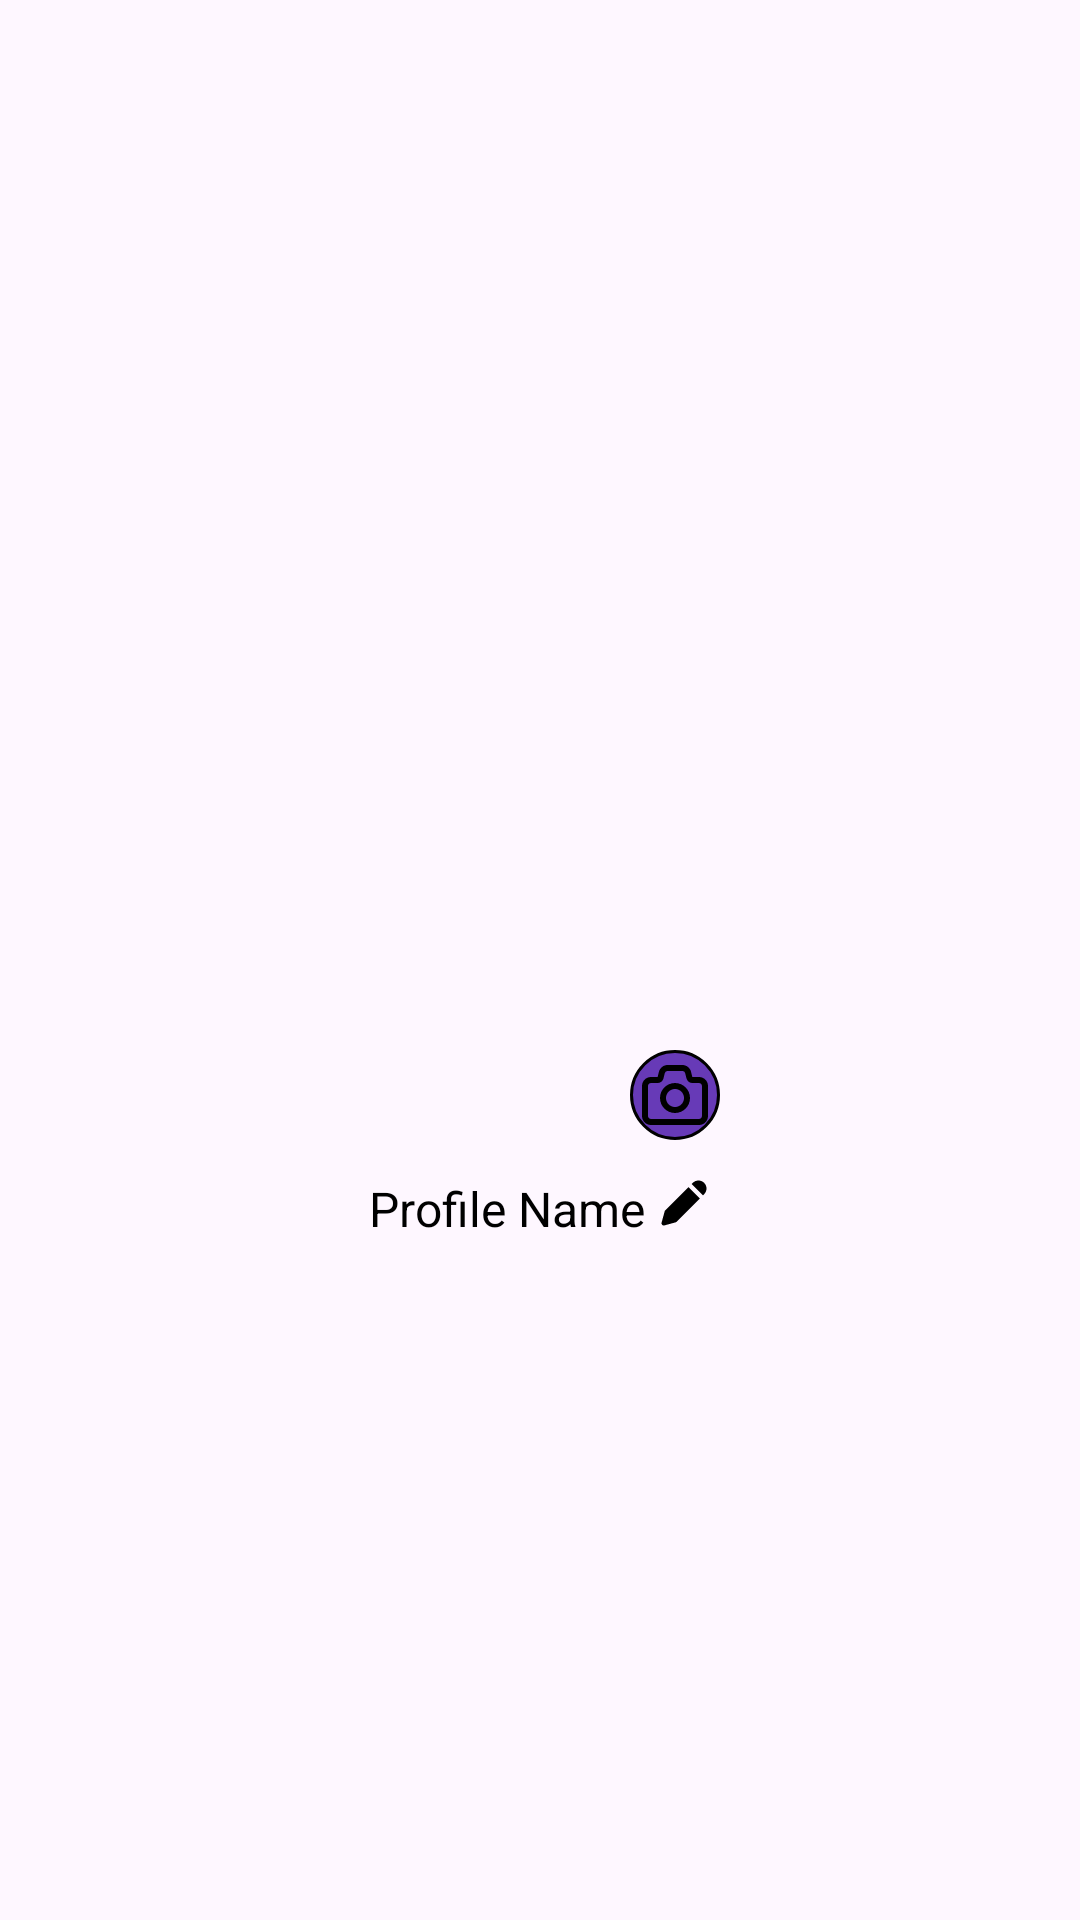

Icons on this 1080w x 1920h Android screen, each with the point to tap as [x,y]:
pencil: [684,1203]
photo: [675,1095]
